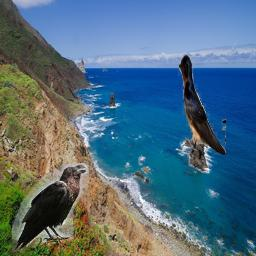Crow: (12, 163, 89, 251)
Swallow: (178, 55, 226, 155)
